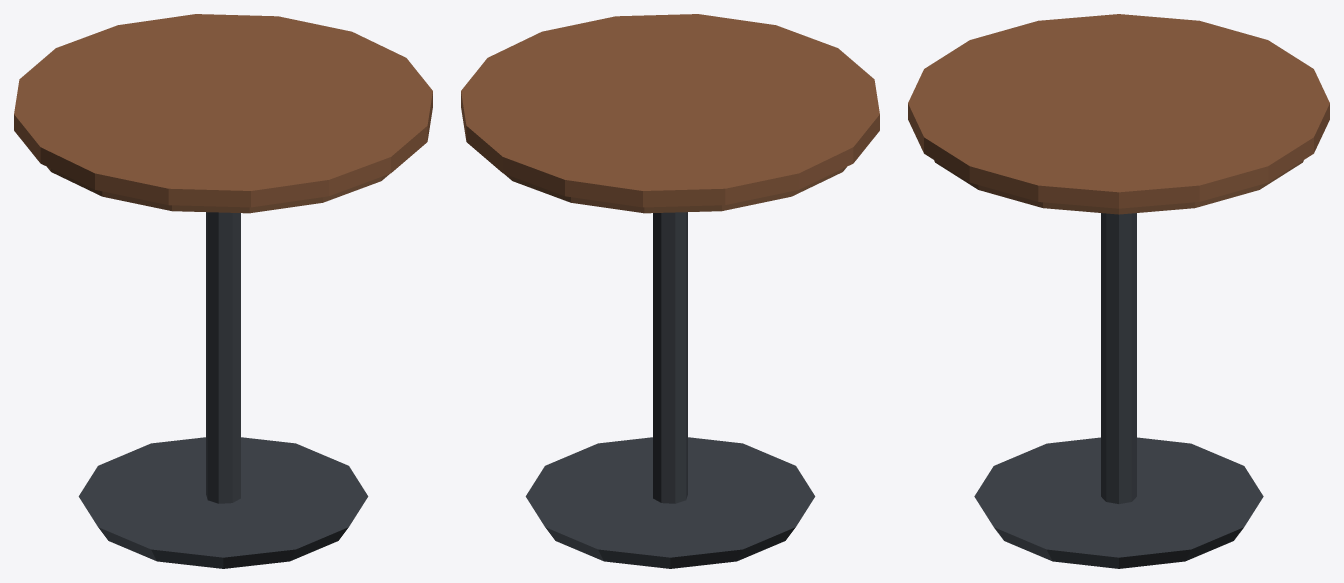
The model's file is cafe_table_round.glb.
The picture shows the model from 3 angles, left to right: view 1: azimuth 30°, elevation 25°; view 2: azimuth 150°, elevation 25°; view 3: azimuth 270°, elevation 25°; orthographic projection.
Visible parts, largest first — view 1: CafeTableRound; view 2: CafeTableRound; view 3: CafeTableRound.
Boxes of the visible parts, x1=… form: CafeTableRound: x1=14, y1=14, x2=432, y2=568; CafeTableRound: x1=461, y1=14, x2=879, y2=568; CafeTableRound: x1=908, y1=14, x2=1329, y2=568.
Bounding box in the file's own units: 0.7 × 0.75 × 0.7.
